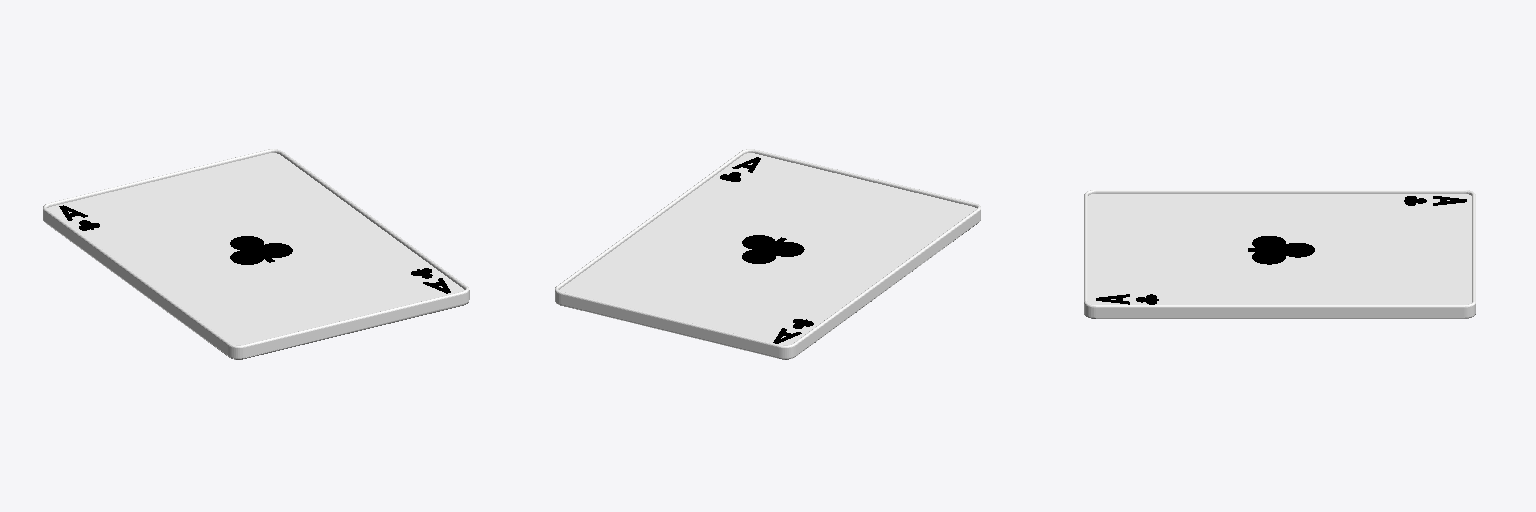
File: clubs_1.obj
3 renders of one model, left to right at view 1: azimuth 30°, elevation 25°; view 2: azimuth 150°, elevation 25°; view 3: azimuth 270°, elevation 25°, orthographic.
Visible parts, largest first — view 1: rect4266.009, rect4266.063, path3979-1-6-1-1.006, rect4266.110; view 2: rect4266.009, rect4266.063, path3979-1-6-1-1.006; view 3: rect4266.009, rect4266.063, path3979-1-6-1-1.006.
Boxes of the visible parts, box(x1,y1,x2,y2) form: rect4266.009: box(47, 153, 464, 344); rect4266.063: box(43, 149, 469, 358); path3979-1-6-1-1.006: box(230, 236, 292, 264); rect4266.110: box(46, 223, 468, 359); rect4266.009: box(559, 153, 976, 344); rect4266.063: box(555, 149, 980, 358); path3979-1-6-1-1.006: box(742, 235, 804, 263); rect4266.009: box(1088, 194, 1471, 304); rect4266.063: box(1084, 190, 1475, 318); path3979-1-6-1-1.006: box(1252, 236, 1314, 264).
Size of the model in its own units: 2.88 by 0.1966 by 4.08.